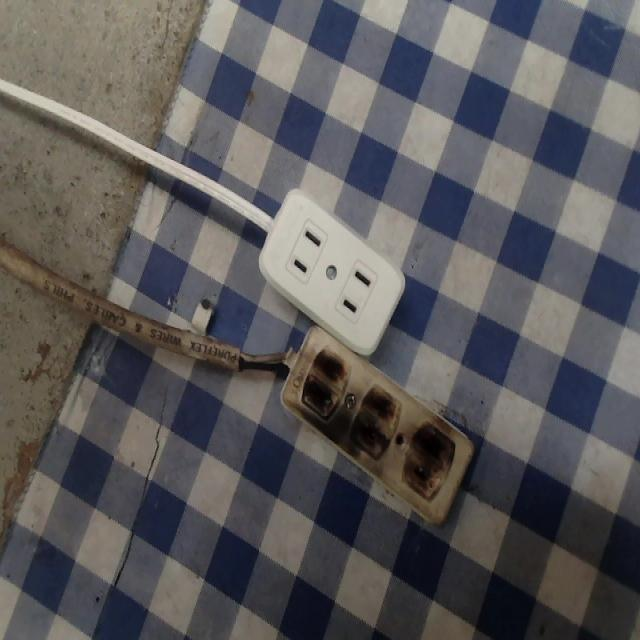-: (405, 411, 457, 504), (354, 378, 399, 462), (304, 344, 347, 420)
